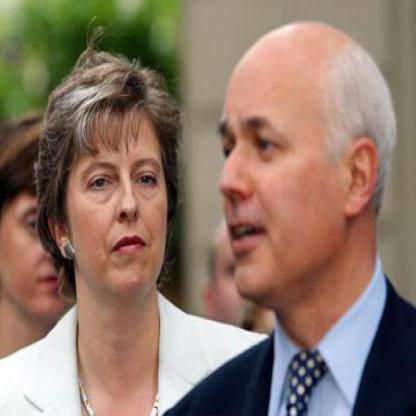face: (199, 27, 359, 309), (62, 79, 172, 306), (1, 137, 89, 322), (214, 217, 280, 348)
